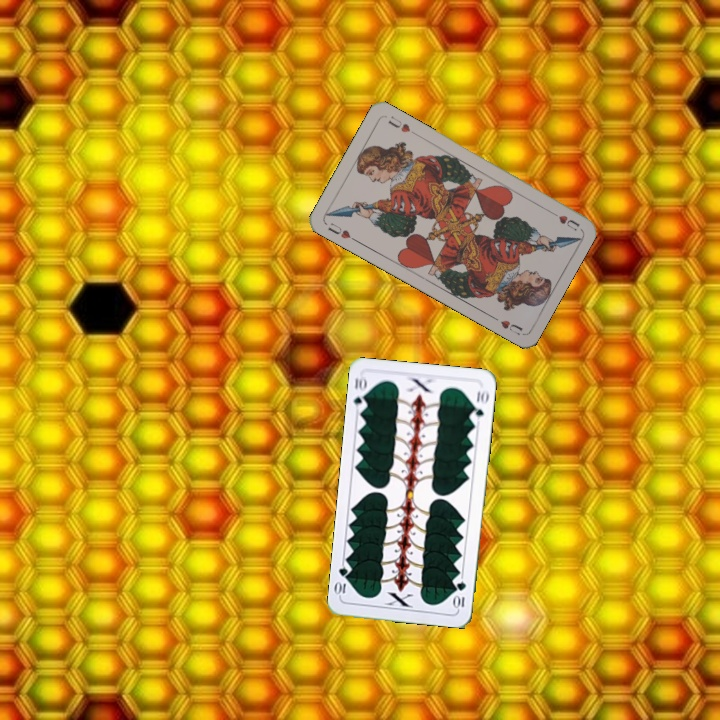G10: (350, 372, 370, 413), (451, 577, 468, 612)
HU: (545, 206, 582, 233), (323, 218, 359, 244)
